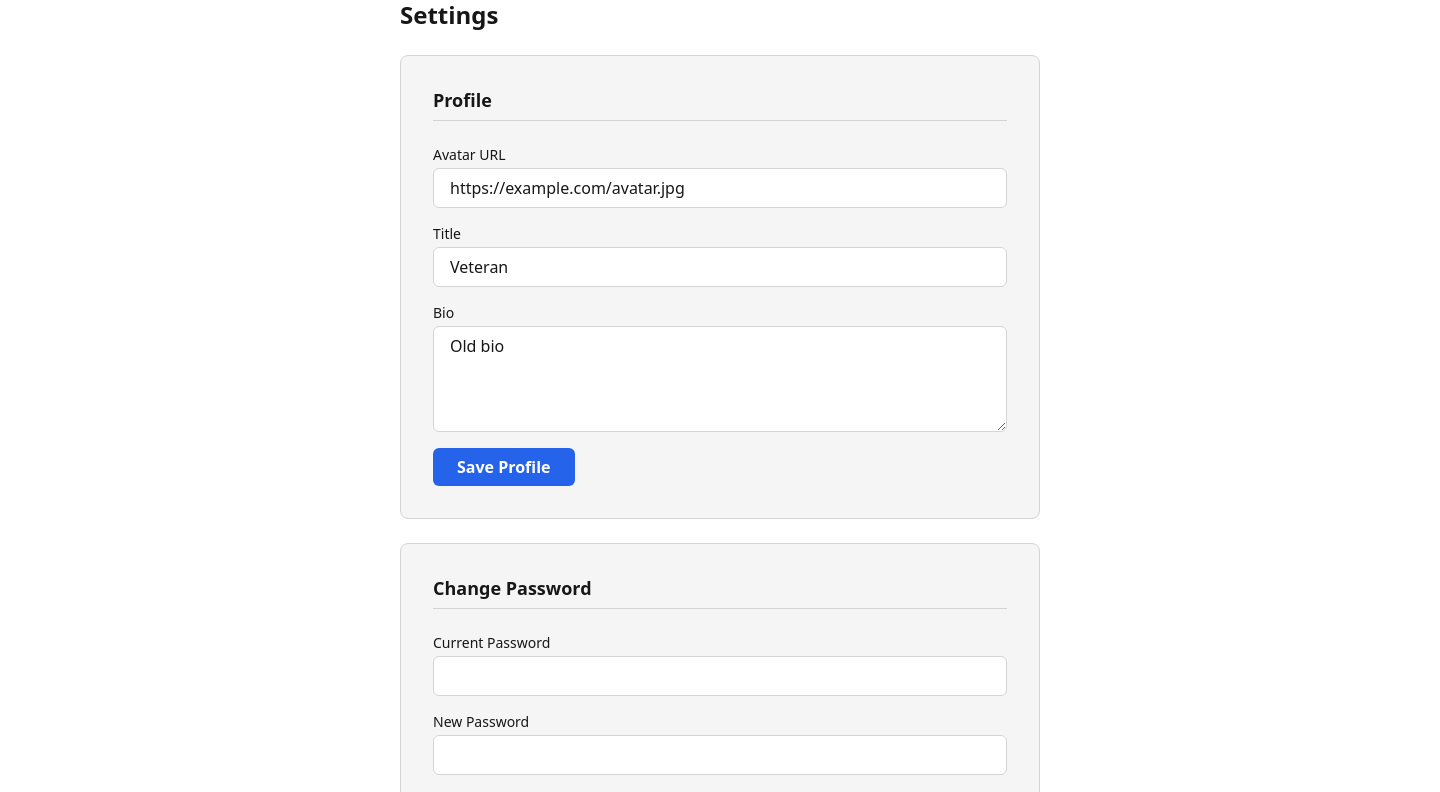
Scenario: UserSettingsPage › shows error when passwords do not match
Type "oldpass123" into the password field labelled "Current Password".
click(720, 676); type("oldpass123")  # box [433,656,1007,696]
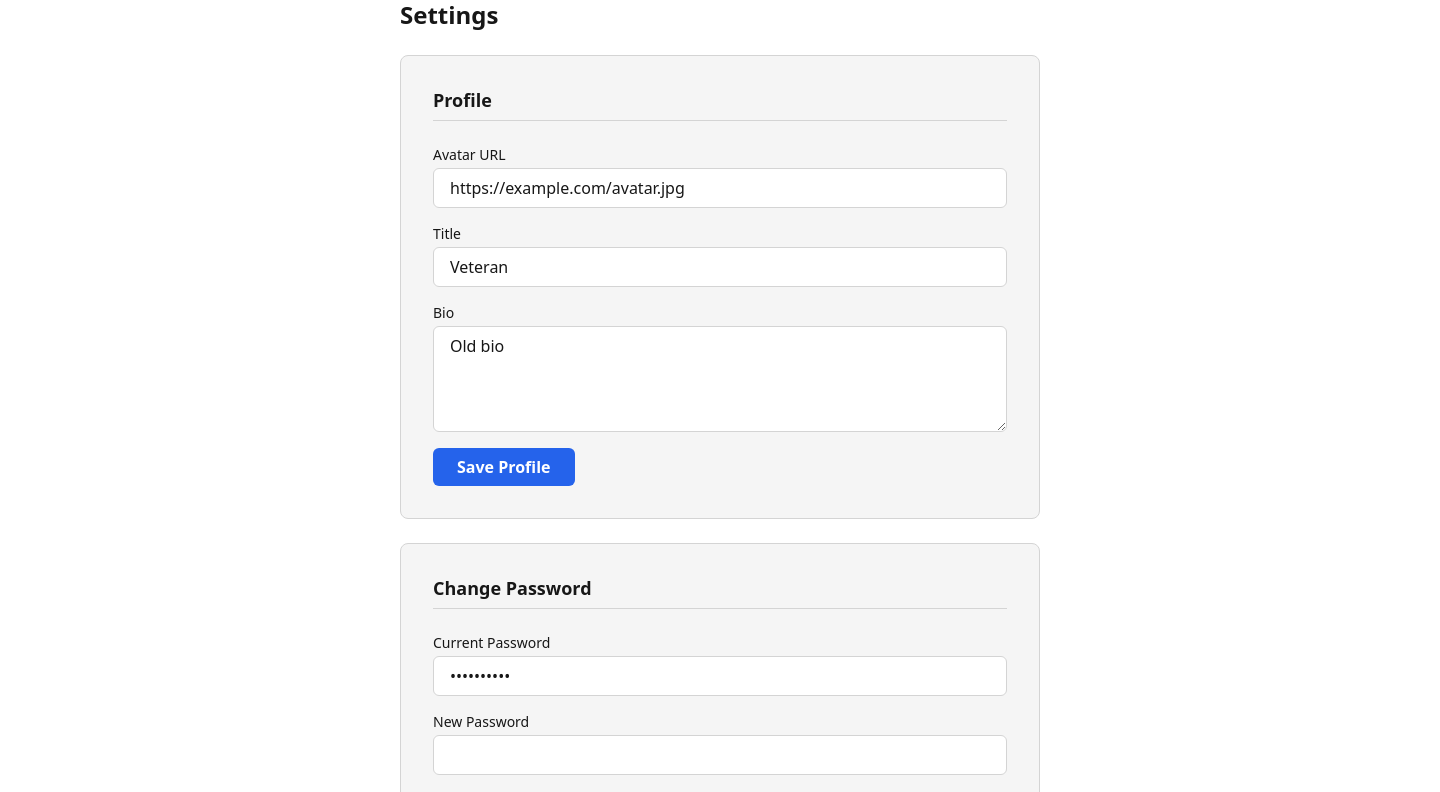
Type "newpass123" into the password field labelled "New Password".
click(720, 755); type("newpass123")  # box [433,735,1007,775]
(page scrolled)
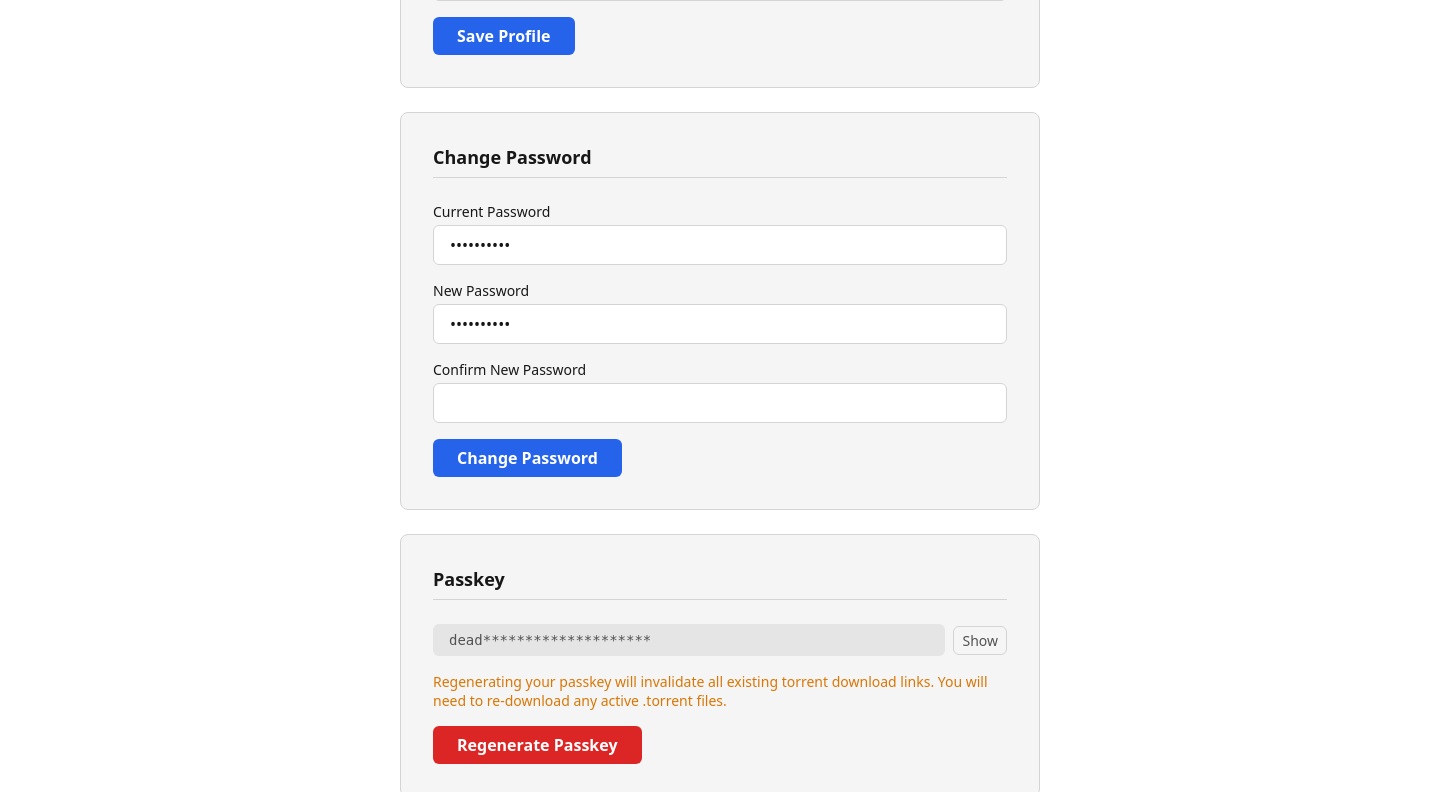
Type "different456" into the password field labelled "Confirm New Password".
click(720, 403); type("different456")  # box [433,383,1007,423]
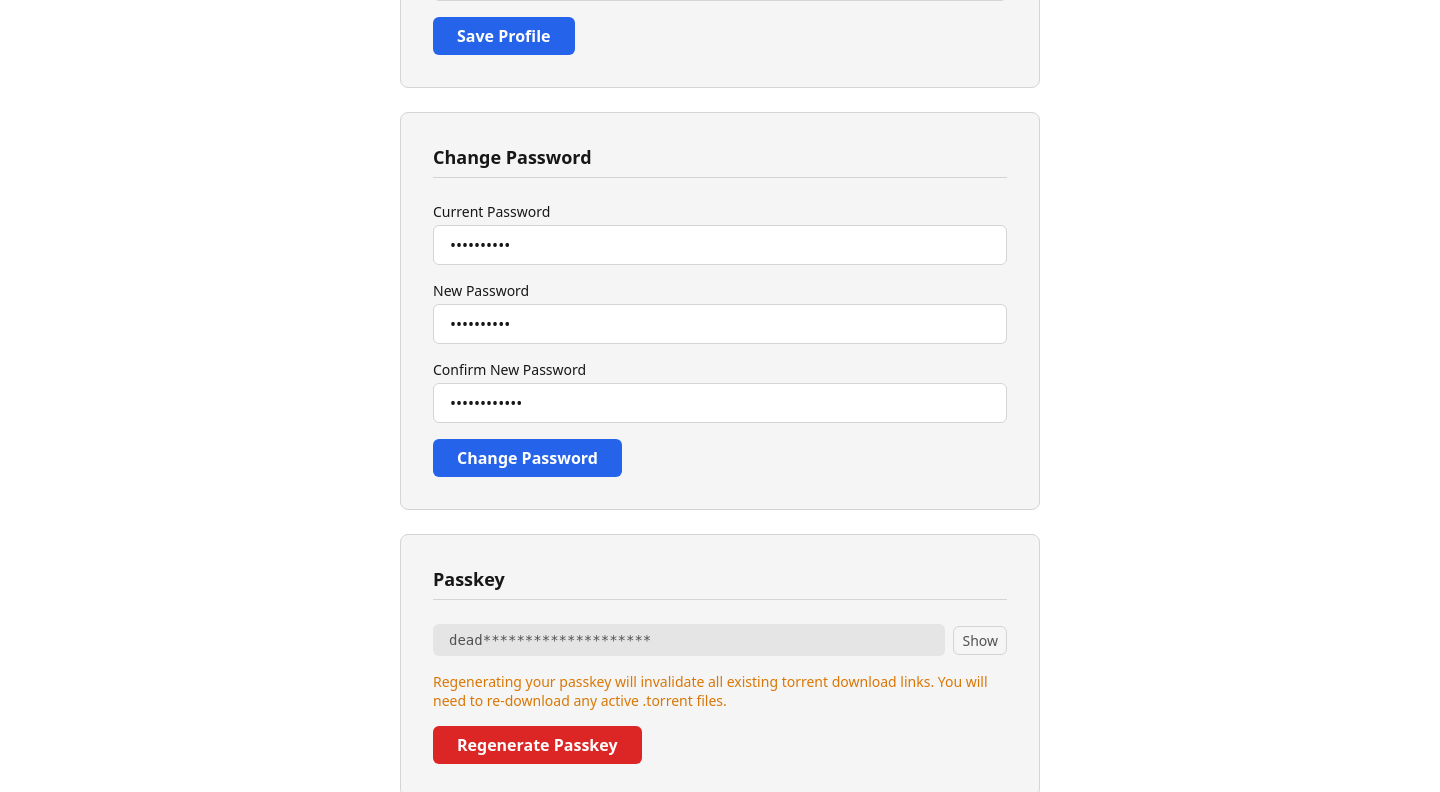
Click the button "Change Password".
click(527, 458)  # box [433,439,622,477]
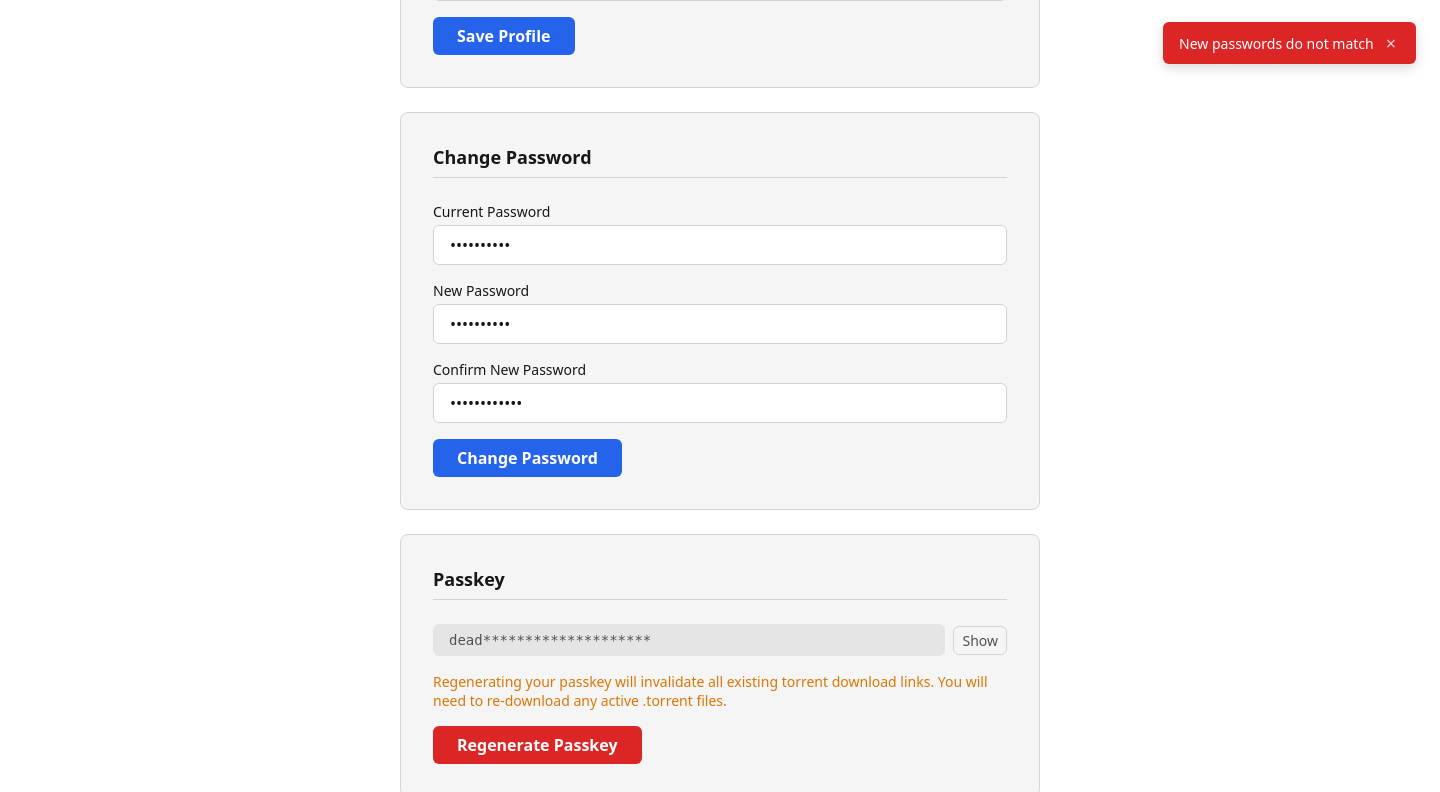
Check: the text "New passwords do not match" is shown, box [1179,34,1374,52]
